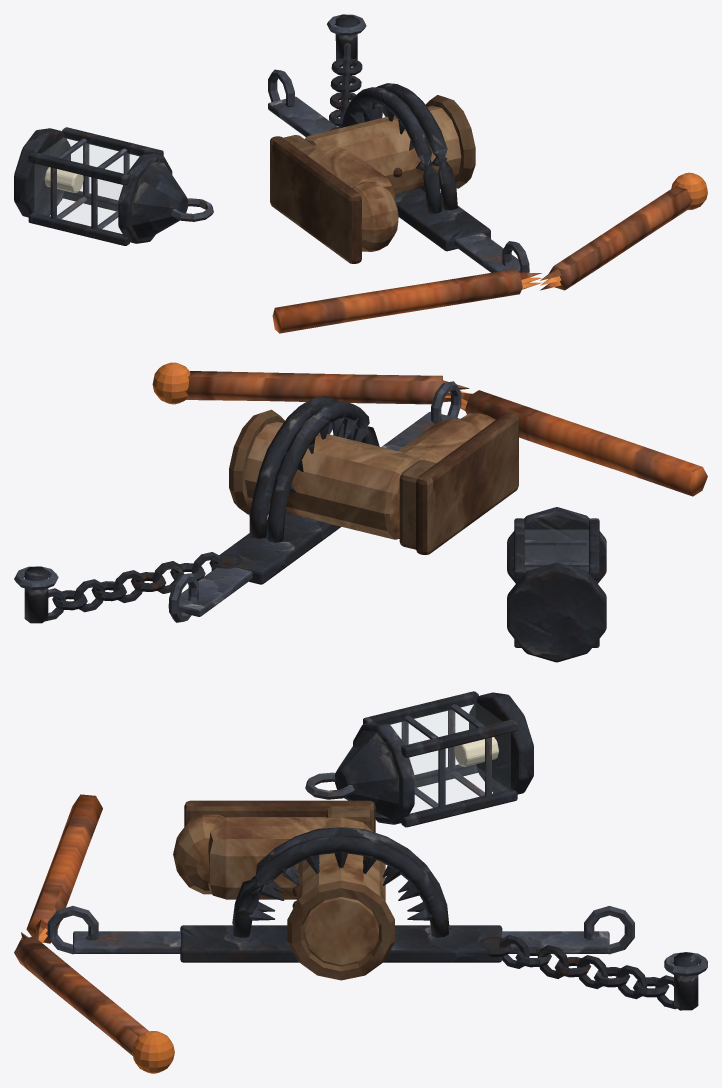
Rendered from op_caught_boot.glb.
3 renders of one model, top to bottom at view 1: azimuth 30°, elevation 25°; view 2: azimuth 150°, elevation 25°; view 3: azimuth 270°, elevation 25°, orthographic. The views are drawn at different scales.
Visible parts, largest first — view 1: model; view 2: model; view 3: model.
Part boxes in pixels (left/top/right/bottom): model: left=14, top=14, right=707, bottom=333; model: left=14, top=362, right=707, bottom=662; model: left=14, top=691, right=707, bottom=1073.
Bounding box in the file's own units: 0.9434 × 0.1804 × 0.9056.
Materials: 13 (11 with a texture image).
